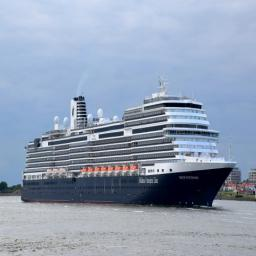cruises: (21, 80, 240, 215)
